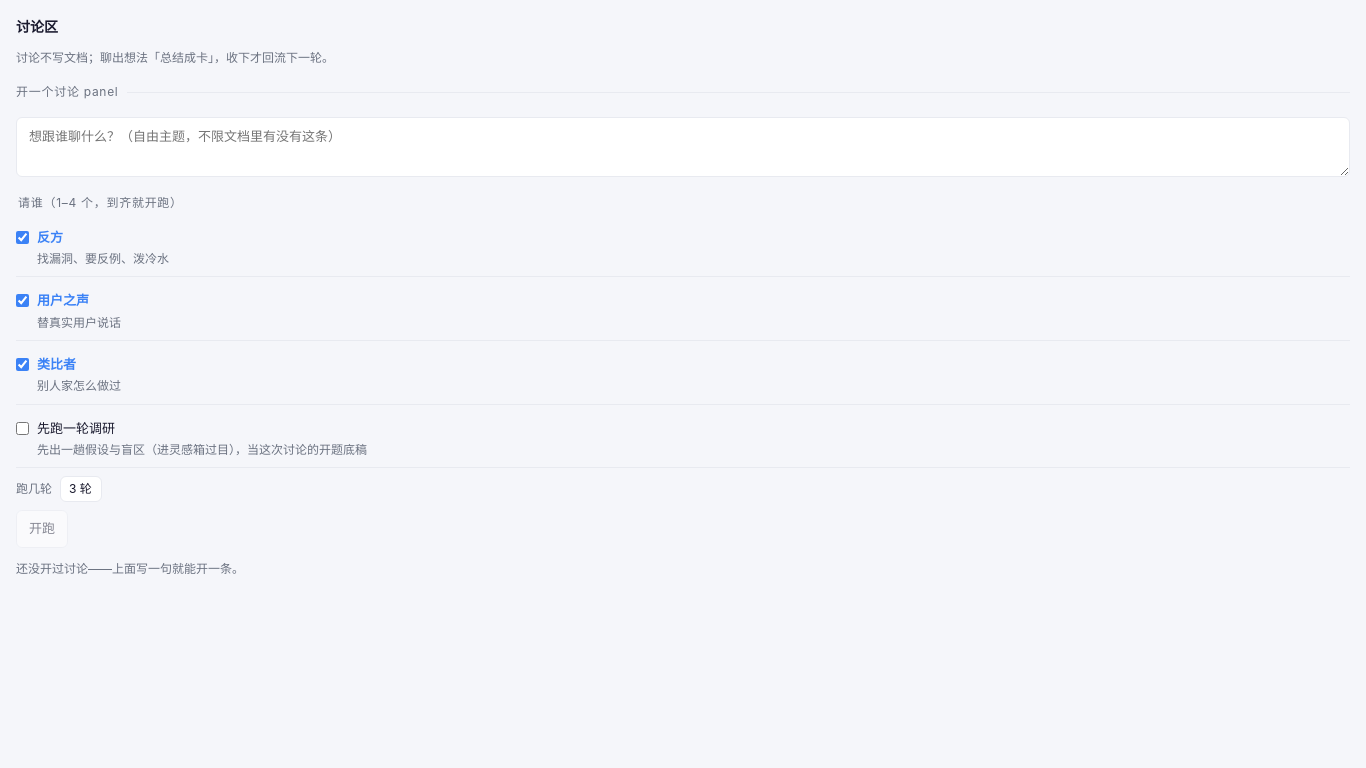
Test: DiscussionTray › 空闲且主题/名单齐：开跑可点（S1）
Step 1. Type "导出要不要做筛选" into the text box named "讨论主题" → coordinates (683, 147), box [16, 117, 1350, 177]
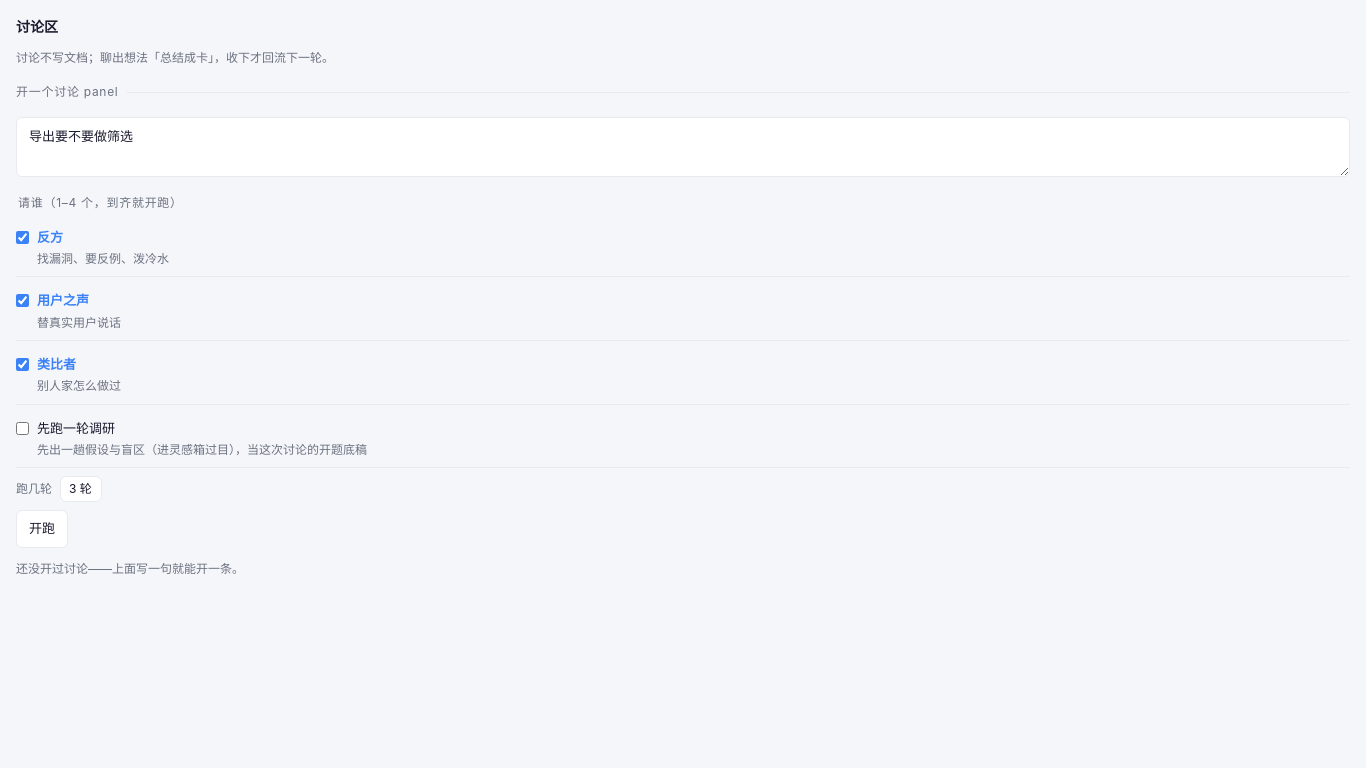
Now the button "开跑" is enabled, box [16, 510, 68, 548]
